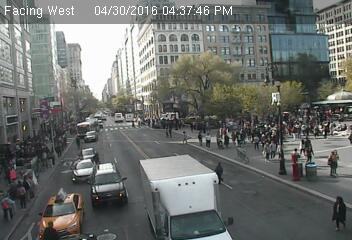neg: (44, 179, 67, 209), (32, 80, 55, 110), (161, 70, 179, 93), (268, 98, 286, 120), (182, 85, 199, 107), (233, 73, 249, 93), (262, 66, 275, 83), (321, 56, 333, 72), (335, 85, 344, 98)
pos: (324, 194, 351, 237), (208, 160, 228, 187), (70, 130, 85, 151), (202, 132, 216, 151), (177, 129, 191, 147), (193, 129, 207, 147), (128, 118, 136, 129)
